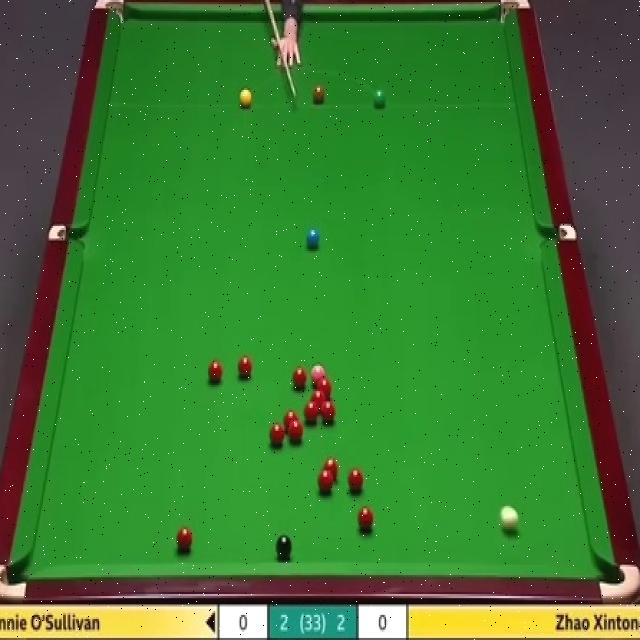black-ball: (274, 536, 292, 557)
blue-ball: (306, 229, 320, 247)
brown-ball: (313, 85, 325, 104)
green-ball: (372, 86, 387, 110)
pink-ball: (311, 364, 326, 385)
red-ball: (346, 466, 364, 493), (314, 377, 332, 401), (176, 528, 193, 553), (289, 368, 308, 390), (358, 506, 374, 532), (317, 470, 334, 494), (237, 352, 253, 377), (269, 422, 284, 446), (207, 362, 224, 383), (321, 400, 336, 421), (284, 410, 298, 430), (304, 401, 318, 421), (290, 420, 303, 441)
white-ball: (501, 506, 518, 532)
yellow-ball: (239, 88, 252, 109)
